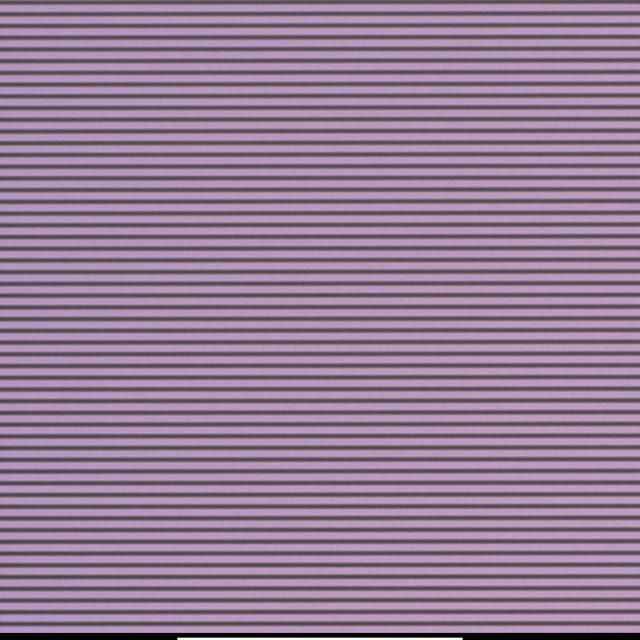nonvisual: (320, 290, 331, 298)
